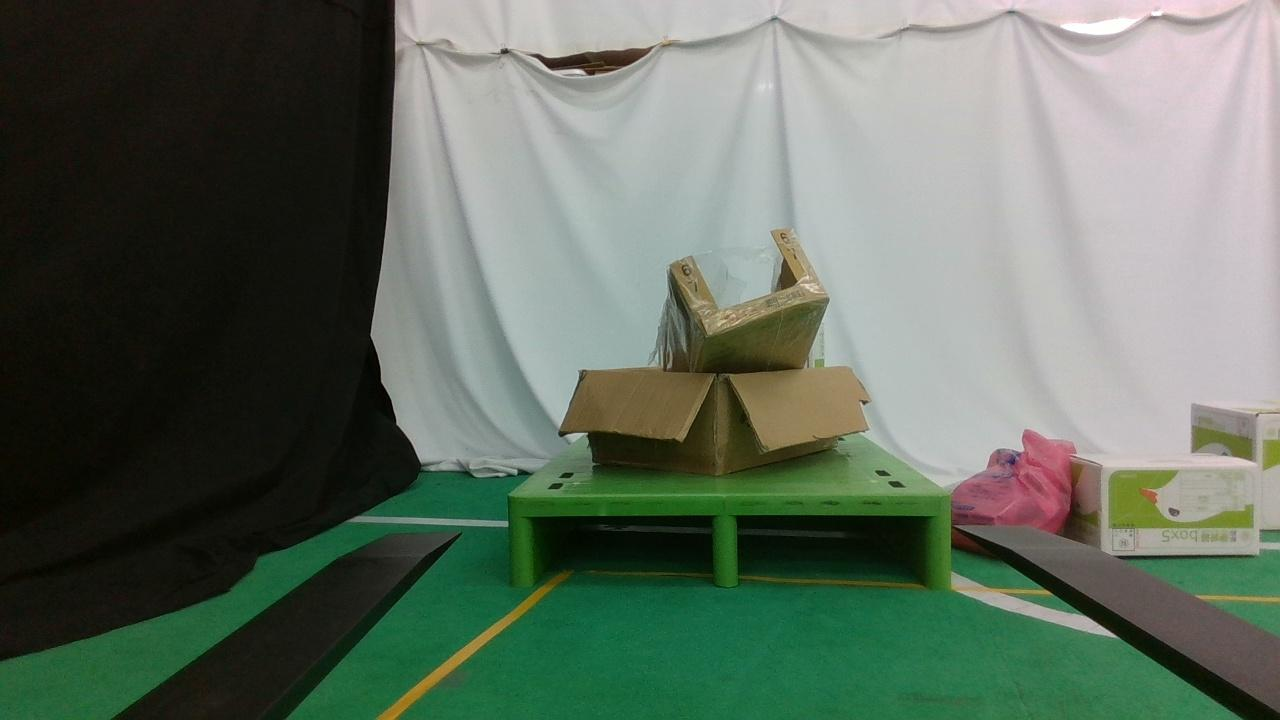Pallet: (509, 491, 953, 591)
